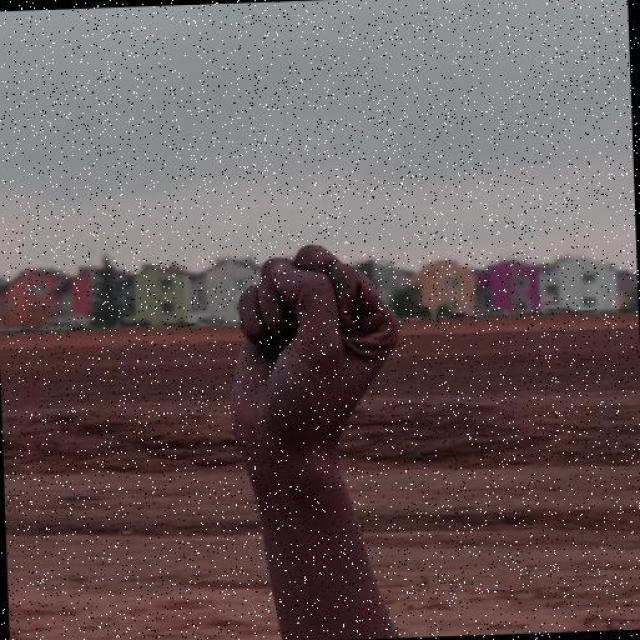S: (223, 237, 411, 469)
